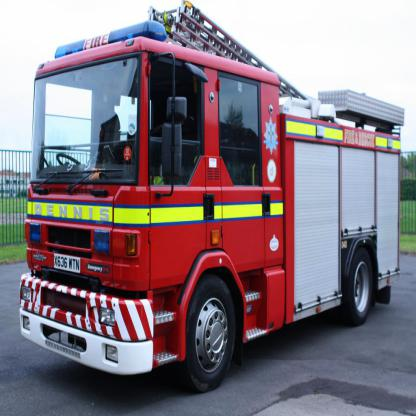Truck: (17, 12, 402, 394)
